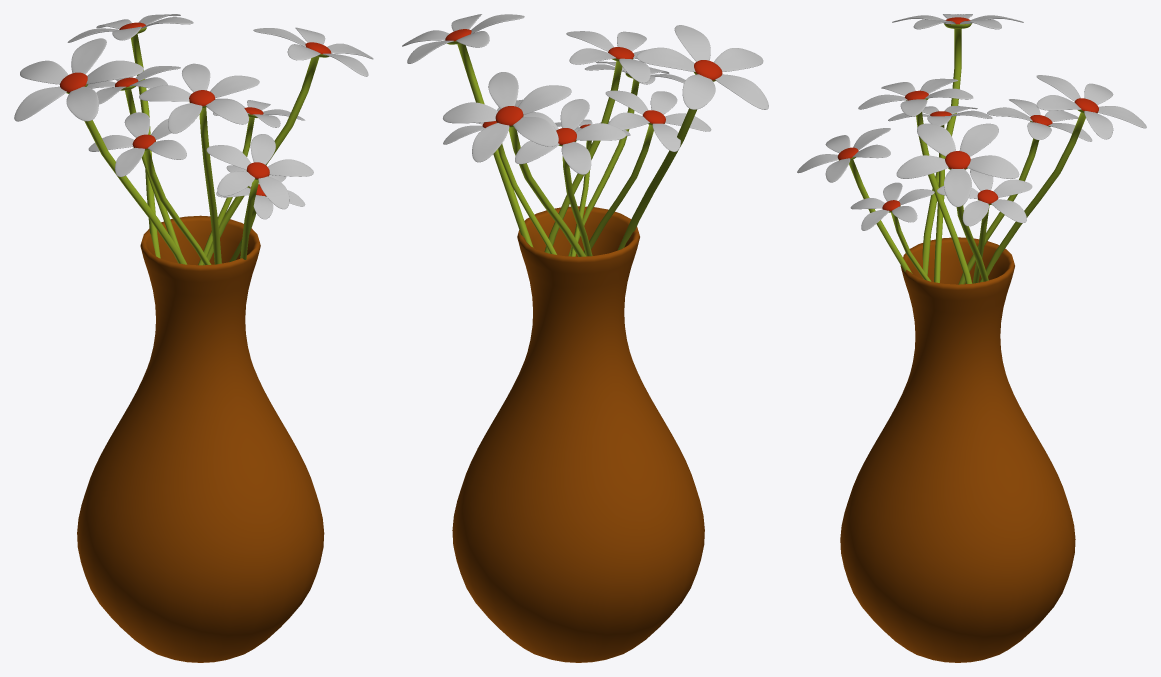
The model's file is flower_vase-transformed.glb.
The picture shows the model from 3 angles, left to right: view 1: azimuth 30°, elevation 25°; view 2: azimuth 150°, elevation 25°; view 3: azimuth 270°, elevation 25°; orthographic projection. The views are drawn at different scales.
Parts seen in each view (by area): view 1: NurbsPath_2, Cube.002_5, Cube.004_7, Cube.003_6, Cube.008_11, Cube_3, Cube.001_4, Cube.007_10, Cube.006_9, Cube.005_8; view 2: NurbsPath_2, Cube.001_4, Cube.002_5, Cube.007_10, Cube.008_11, Cube_3, Cube.004_7, Cube.003_6, Cube.006_9, Cube.005_8; view 3: NurbsPath_2, Cube_3, Cube.001_4, Cube.004_7, Cube.003_6, Cube.006_9, Cube.002_5, Cube.007_10, Cube.005_8, Cube.008_11.
Part boxes in pixels (x1,y1,x2,y2): NurbsPath_2: [77, 215, 324, 662]; Cube.002_5: [14, 38, 187, 264]; Cube.004_7: [139, 63, 259, 264]; Cube.003_6: [206, 134, 313, 259]; Cube.008_11: [88, 112, 211, 264]; Cube_3: [204, 27, 373, 265]; Cube.001_4: [67, 14, 193, 258]; Cube.007_10: [86, 66, 181, 252]; Cube.006_9: [198, 98, 305, 265]; Cube.005_8: [216, 165, 305, 262]; NurbsPath_2: [452, 206, 704, 662]; Cube.001_4: [443, 72, 586, 256]; Cube.002_5: [617, 25, 768, 250]; Cube.007_10: [515, 99, 625, 256]; Cube.008_11: [584, 90, 711, 254]; Cube_3: [402, 14, 533, 247]; Cube.004_7: [544, 31, 650, 253]; Cube.003_6: [568, 61, 685, 256]; Cube.006_9: [443, 99, 556, 254]; Cube.005_8: [555, 119, 630, 256]; NurbsPath_2: [840, 237, 1075, 662]; Cube_3: [896, 123, 1019, 281]; Cube.001_4: [979, 75, 1146, 282]; Cube.004_7: [858, 78, 973, 283]; Cube.003_6: [797, 128, 912, 273]; Cube.006_9: [937, 169, 1032, 283]; Cube.002_5: [892, 14, 1023, 275]; Cube.007_10: [958, 99, 1092, 284]; Cube.005_8: [850, 182, 934, 281]; Cube.008_11: [888, 106, 992, 282].
Size of the model in its own units: 0.4968 by 0.8095 by 0.4428.
